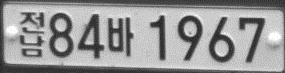1: (147, 14, 172, 60)
4: (77, 14, 104, 59)
6: (208, 16, 235, 63)
7: (237, 16, 266, 62)
8: (47, 12, 73, 58)
9: (176, 14, 203, 61)
바: (107, 16, 134, 56)
전남_V: (19, 12, 45, 57)
